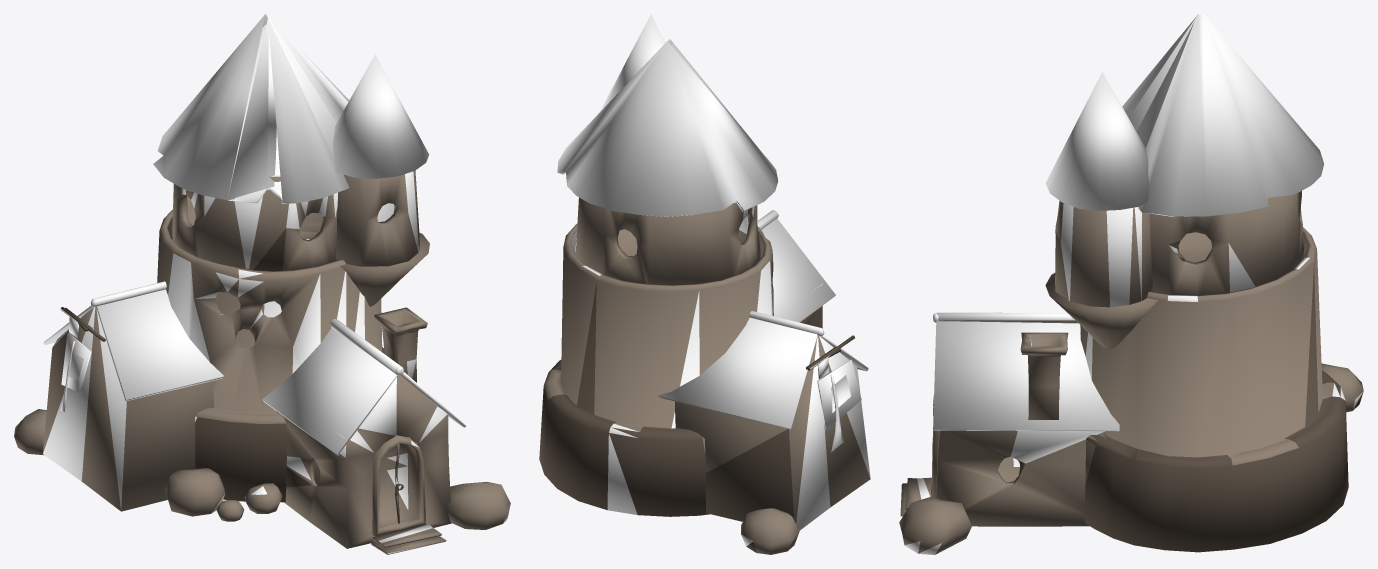
3 views of the same model, side by side, from view 1: azimuth 30°, elevation 25°; view 2: azimuth 150°, elevation 25°; view 3: azimuth 270°, elevation 25° (orthographic). The views are drawn at different scales.
Visible parts, largest first — view 1: castle_d1; view 2: castle_d1; view 3: castle_d1.
Boxes of the visible parts, x1,y1,x2,y2 form: castle_d1: [14, 14, 510, 554]; castle_d1: [539, 14, 870, 554]; castle_d1: [899, 14, 1363, 554].
Bounding box in the file's own units: 2.48 × 3.32 × 2.9.
